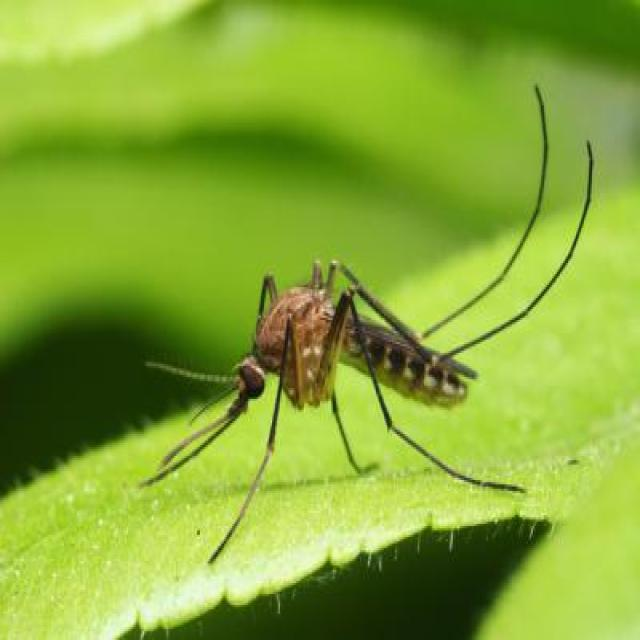antennae: (142, 356, 241, 431)
body: (238, 282, 481, 410)
insect: (144, 76, 600, 564)
legs: (420, 83, 596, 360), (326, 298, 524, 501), (210, 314, 304, 559)
mouthpart: (142, 392, 258, 488)
wings: (334, 300, 479, 380)
